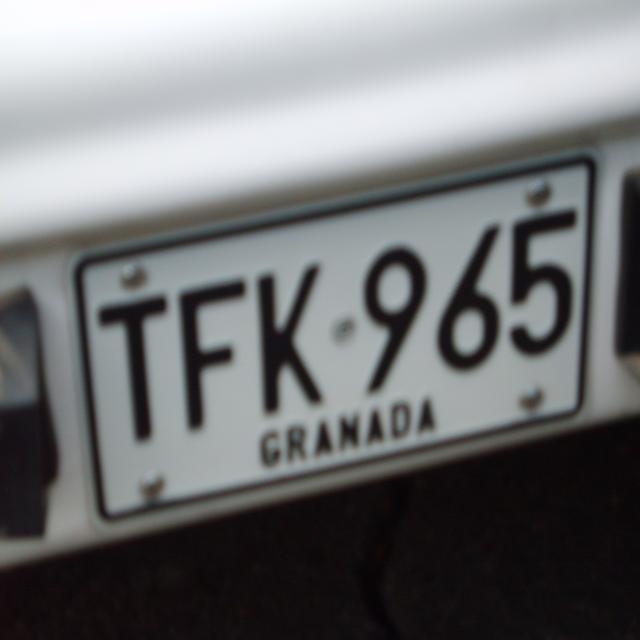particular: (66, 145, 600, 536)
